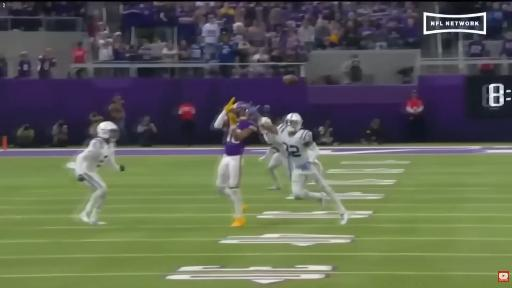Helmet: (97, 122, 119, 140), (285, 113, 302, 131), (233, 102, 250, 119)
Jersey: (75, 138, 117, 173), (278, 126, 313, 167), (259, 126, 280, 151), (225, 132, 245, 155)
Player: (261, 113, 348, 224), (68, 122, 124, 224), (214, 99, 257, 227), (260, 118, 290, 189), (260, 125, 291, 189)
